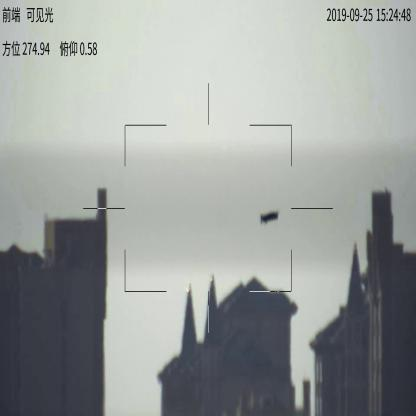uav: (258, 210, 279, 225)
